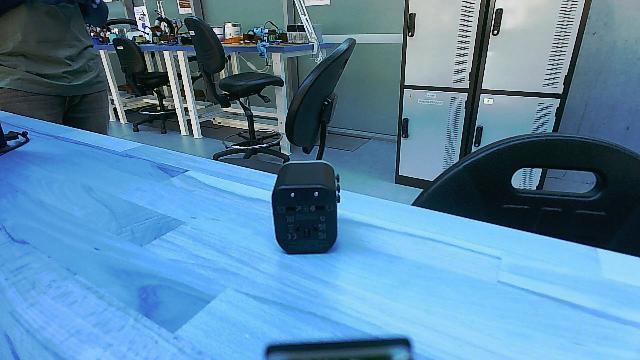adapter: (270, 157, 344, 256)
